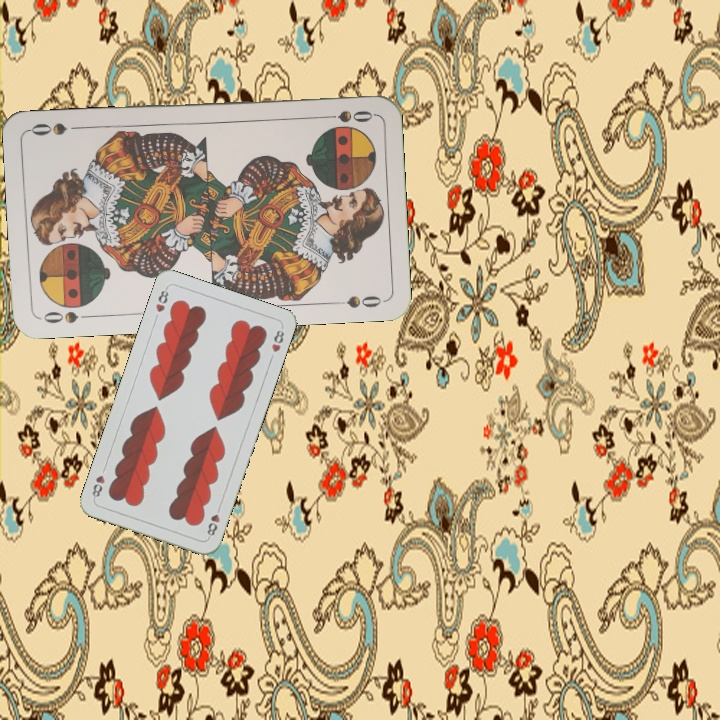H8: (203, 501, 224, 541), (151, 283, 171, 315)
SO: (316, 106, 376, 125), (37, 307, 96, 326)
